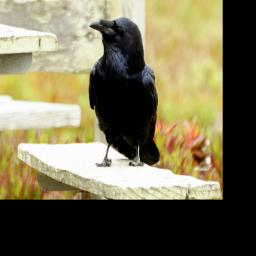Crow: (87, 16, 160, 168)
